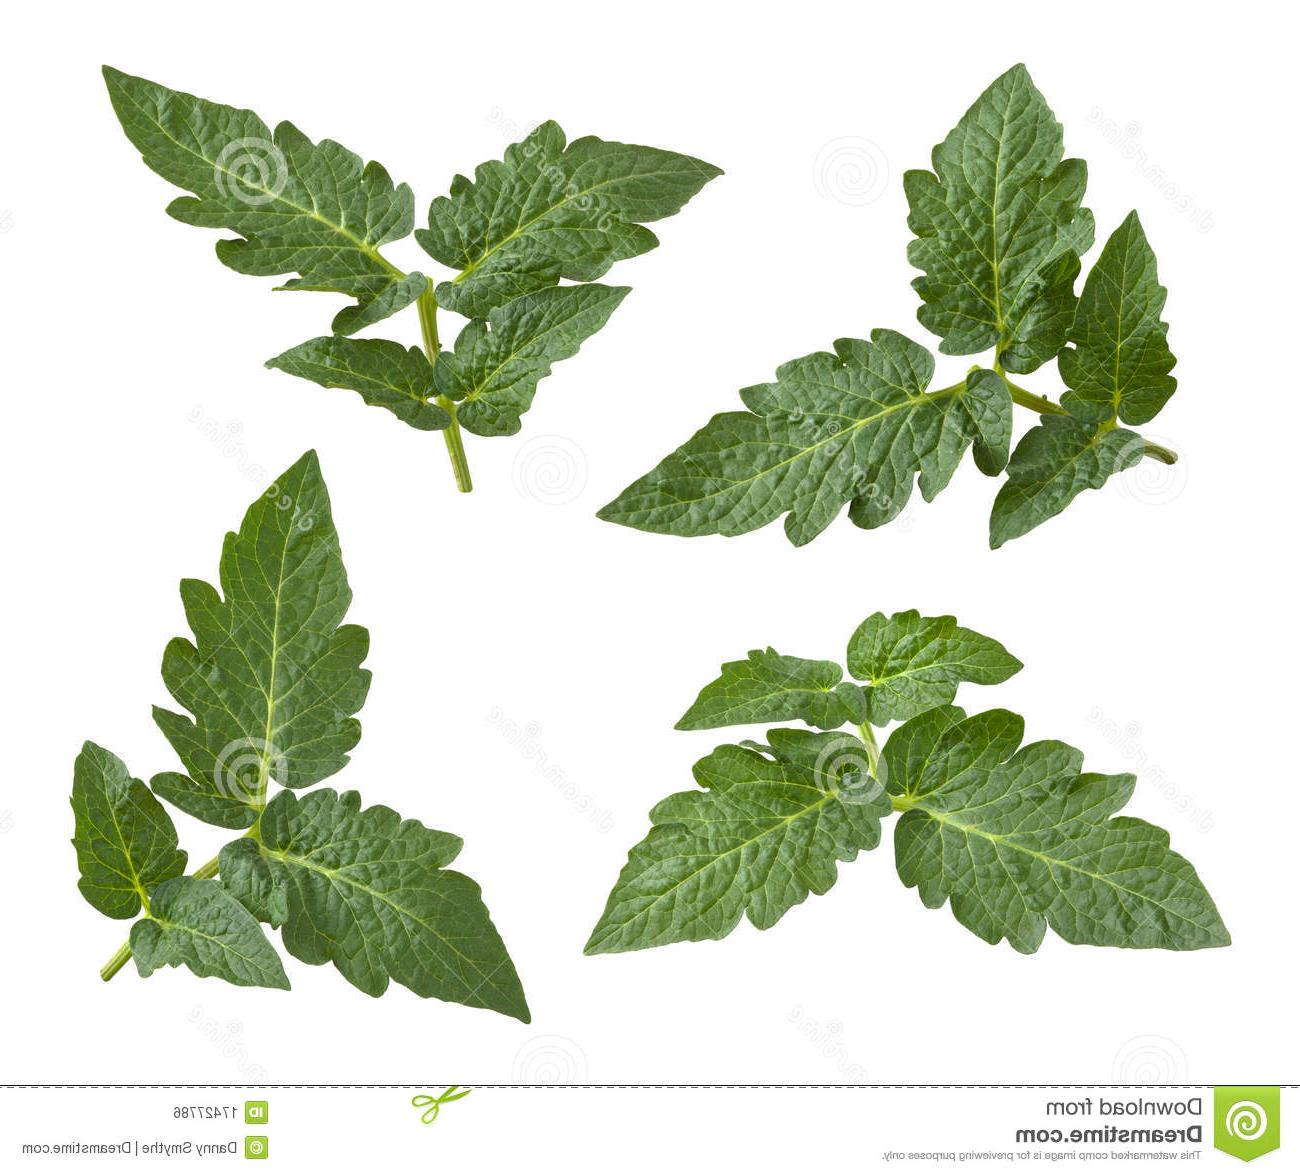Tomato leaf: (876, 684, 1239, 1004), (564, 319, 997, 580), (127, 435, 376, 860), (44, 43, 420, 319), (549, 717, 876, 984), (874, 36, 1118, 367), (420, 101, 756, 326)
